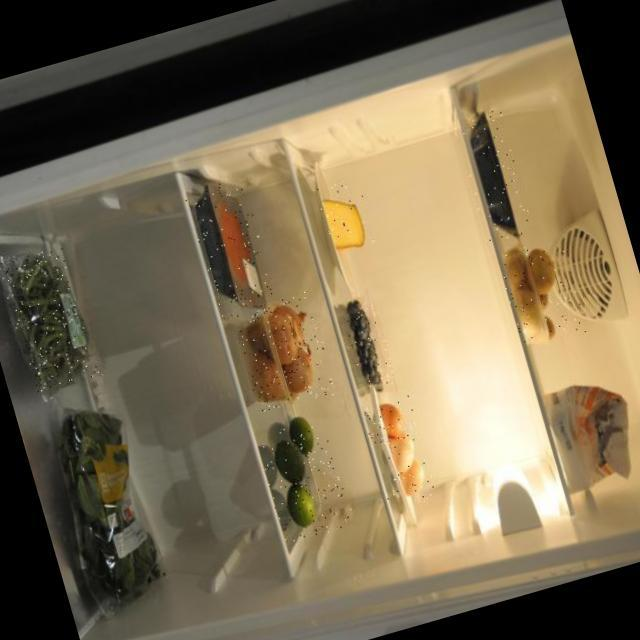Cebolla: (229, 288, 337, 416)
Huevos: (360, 391, 438, 514)
Patata: (494, 237, 587, 352)
Queso: (307, 176, 378, 263)
green beans: (0, 245, 97, 393)
lime: (254, 417, 356, 545)
meat: (182, 175, 276, 317), (452, 108, 534, 246)
olive: (340, 297, 396, 391)
